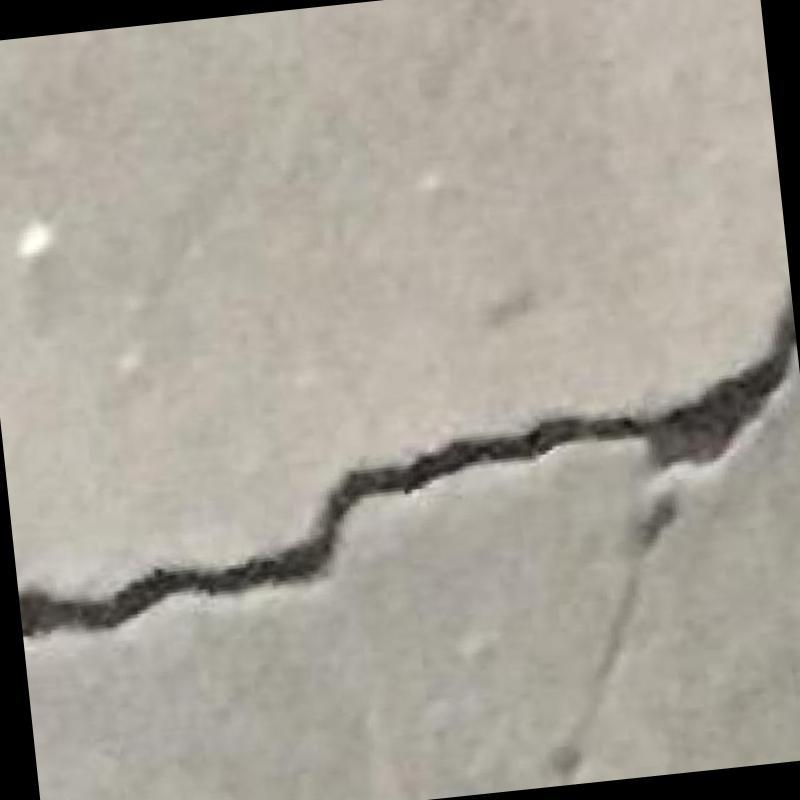pothole: (18, 296, 795, 636)
